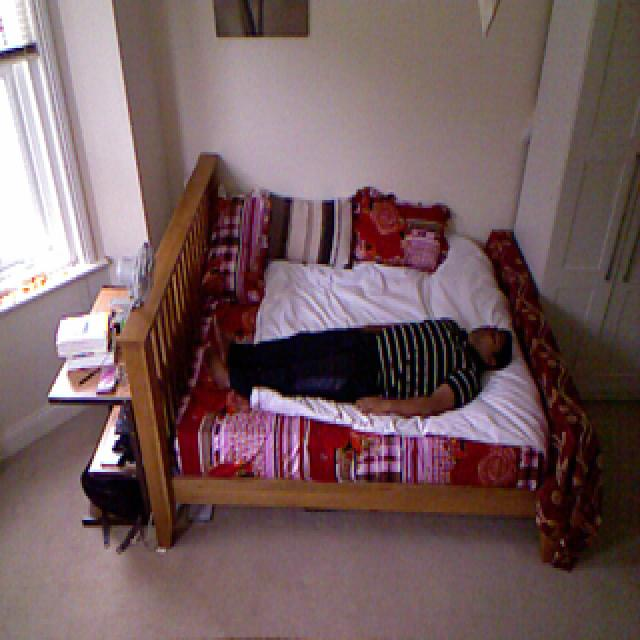lying: (201, 303, 518, 424)
